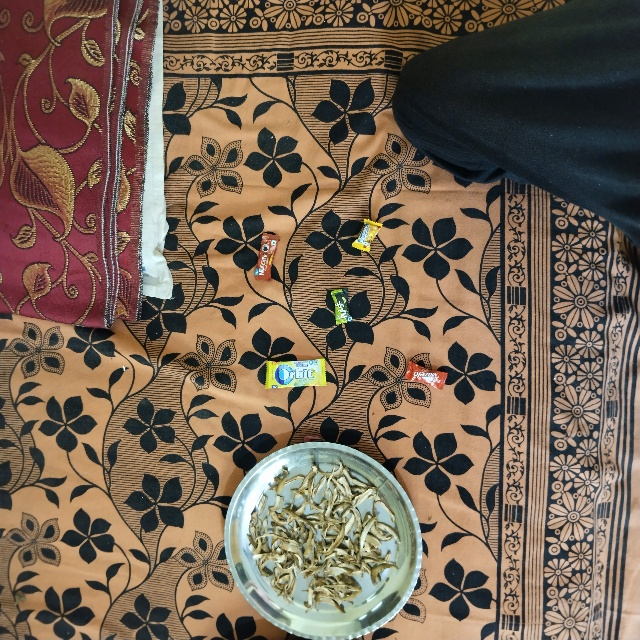Alpenlibe Creamfills: (366, 216, 387, 250)
Mazelo: (407, 361, 452, 380)
Nescafe Coffee: (262, 230, 282, 281)
Orbit: (267, 358, 327, 389)
Pulse: (326, 288, 350, 327)
